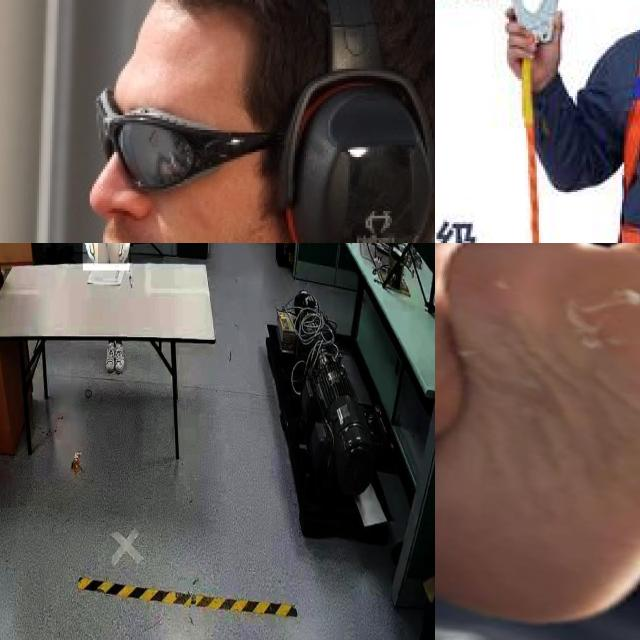Barefoots: (435, 243, 640, 640)
Ear-protection: (240, 0, 435, 243)
glasses: (89, 84, 284, 204)
hand_glove: (117, 243, 133, 267), (81, 243, 98, 265)
shoes: (112, 340, 126, 376), (104, 341, 115, 376)
